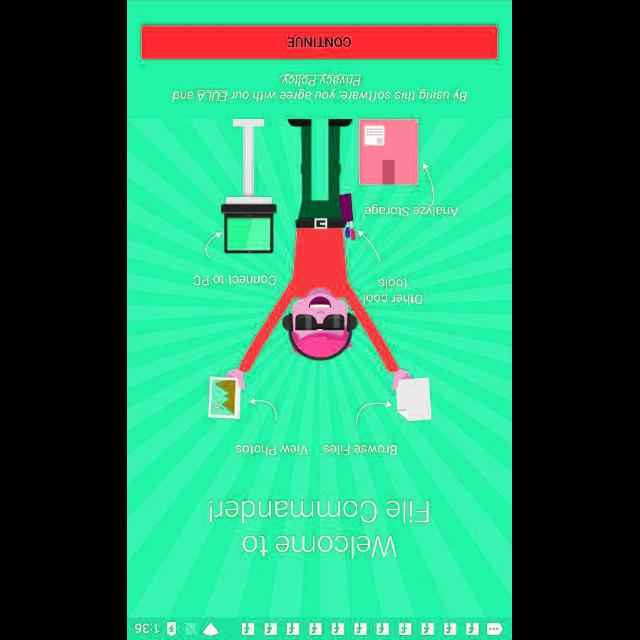backgroundimage: (128, 0, 512, 616)
text: (210, 499, 430, 558), (172, 73, 468, 104)
textbutton: (142, 25, 498, 59)
uppertaskbar: (128, 617, 512, 639)
